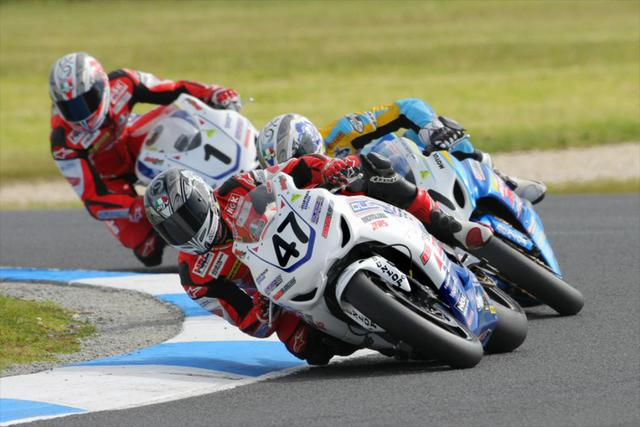helmet: (144, 178, 222, 252), (46, 54, 113, 126), (259, 115, 318, 166)
